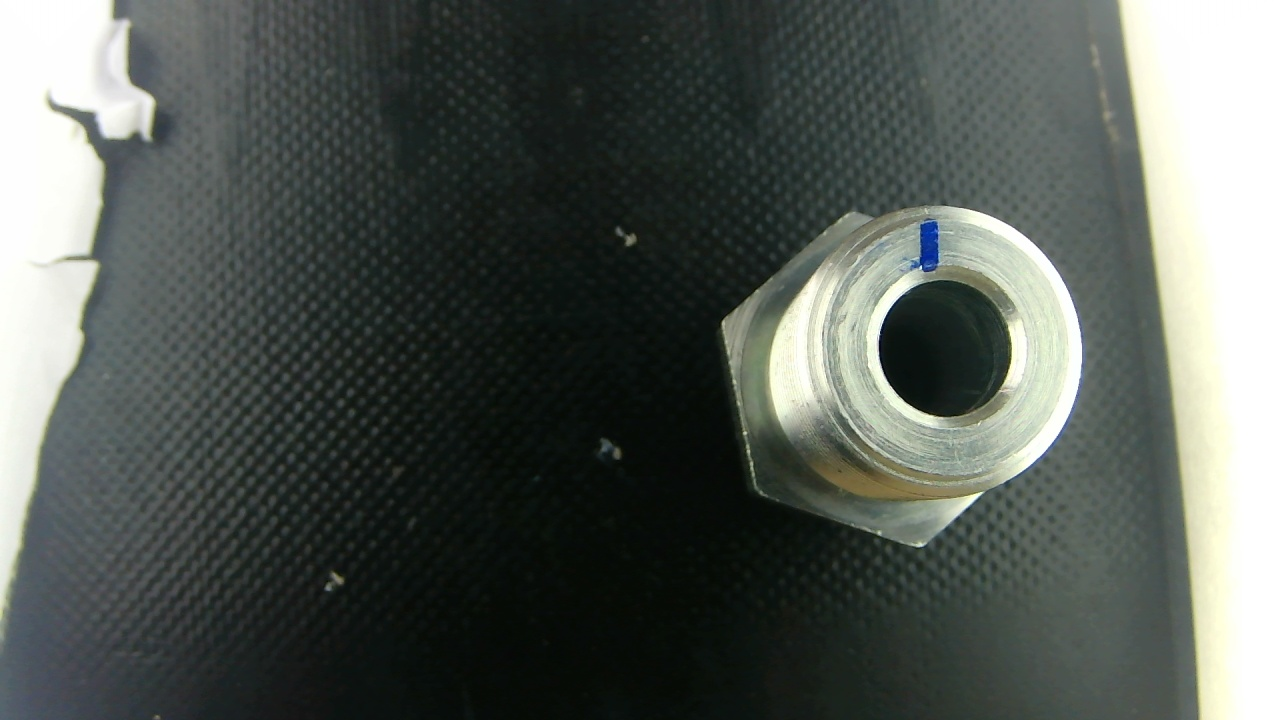okay_adapter: (720, 207, 1082, 546)
